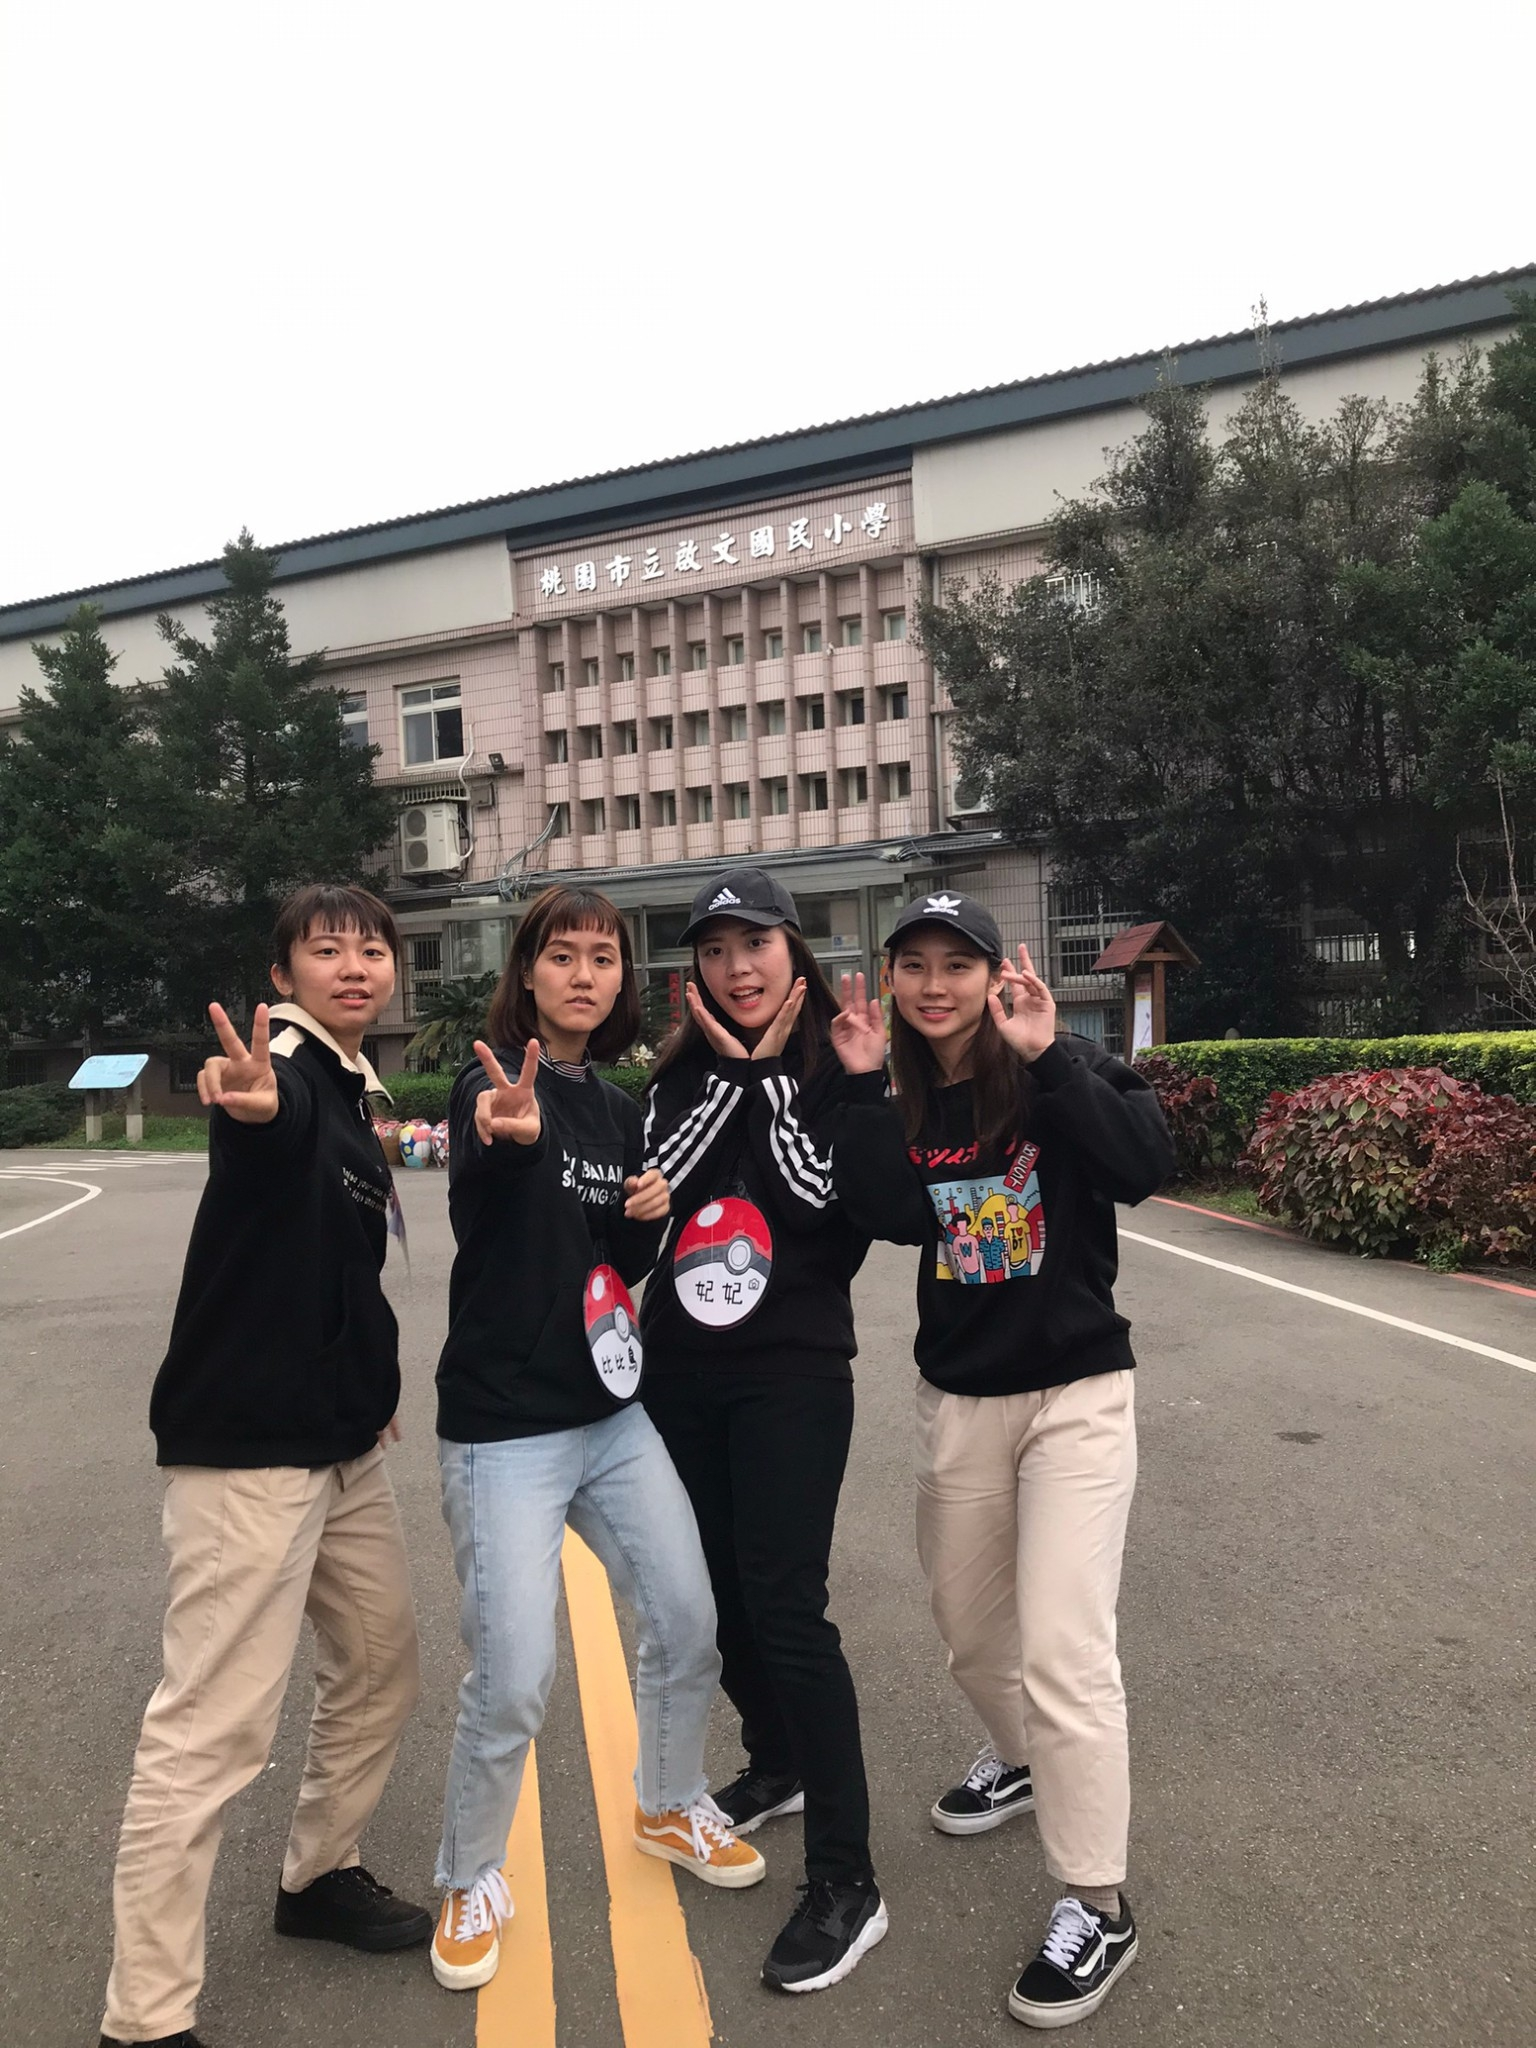people: (876, 899, 1147, 1986), (140, 883, 405, 1960), (644, 880, 895, 1986), (479, 889, 731, 1880)
